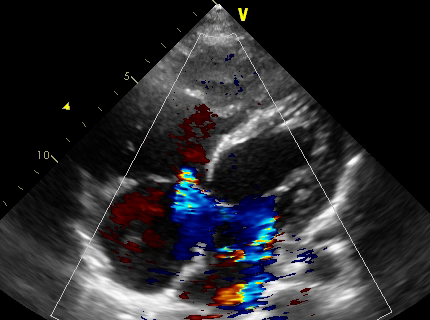TR: (171, 168, 206, 222)
